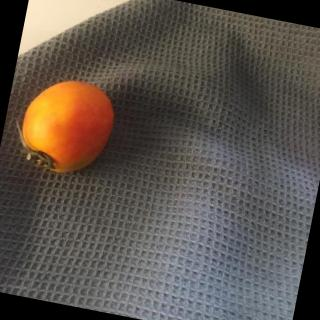Tomat: (1, 65, 137, 191)
